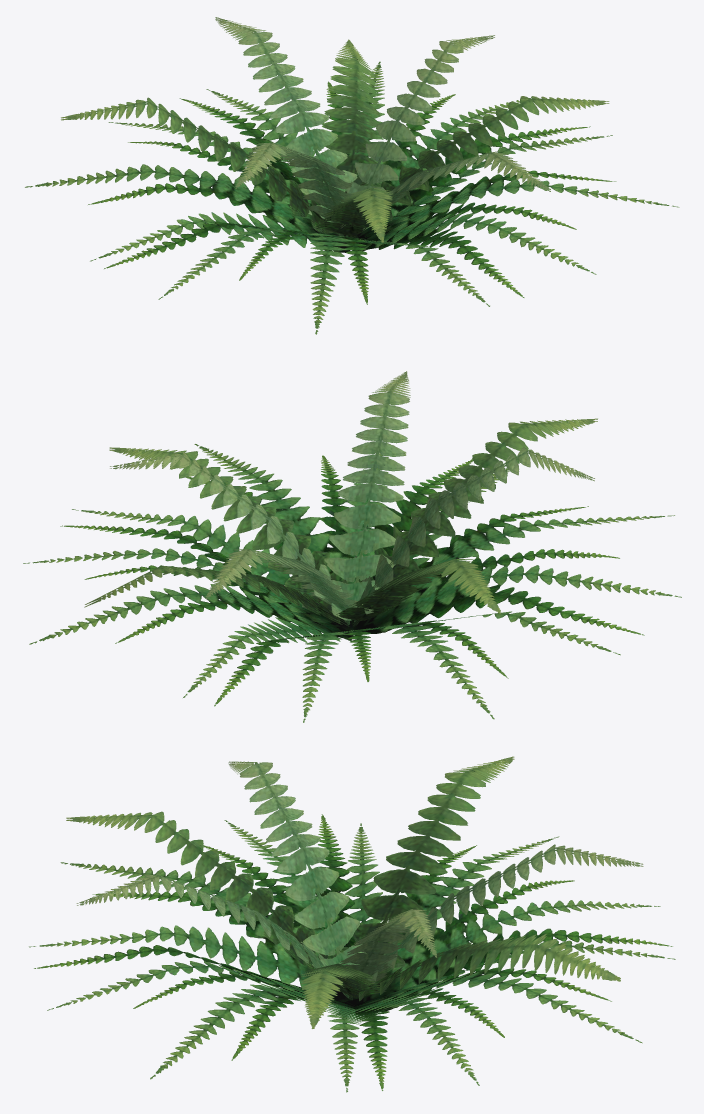
The model's file is frst_fern_green_a2_l0.fbx.
3 views of the same model, one above another, from view 1: azimuth 30°, elevation 25°; view 2: azimuth 150°, elevation 25°; view 3: azimuth 270°, elevation 25° (orthographic). The views are drawn at different scales.
Parts seen in each view (by area): view 1: mesh_node; view 2: mesh_node; view 3: mesh_node.
Boxes of the visible parts, box(x1,y1,x2,y2) form: mesh_node: box(25, 17, 679, 334); mesh_node: box(23, 371, 681, 722); mesh_node: box(29, 756, 675, 1092).
Size of the model in its own units: 2.96 by 0.9223 by 2.93.
